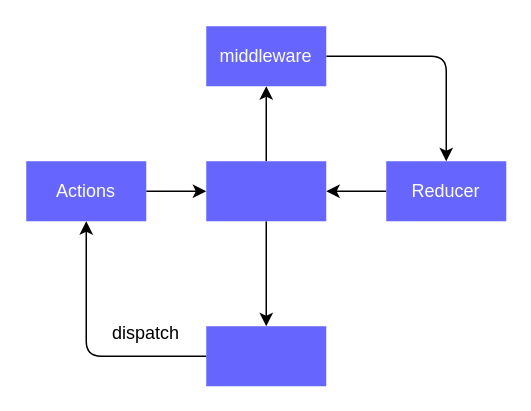
Some shapes in this 531 by 411 pixel diagram are drawn without their labels. The shapes that lost their labels are listed below. From the top down, each one's box as (x1, y1, x2, y2) in pixels, then its label:
(206, 160, 326, 220): Store
(206, 326, 326, 386): Component
